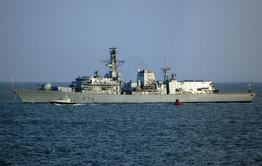warship: (8, 45, 255, 105)
